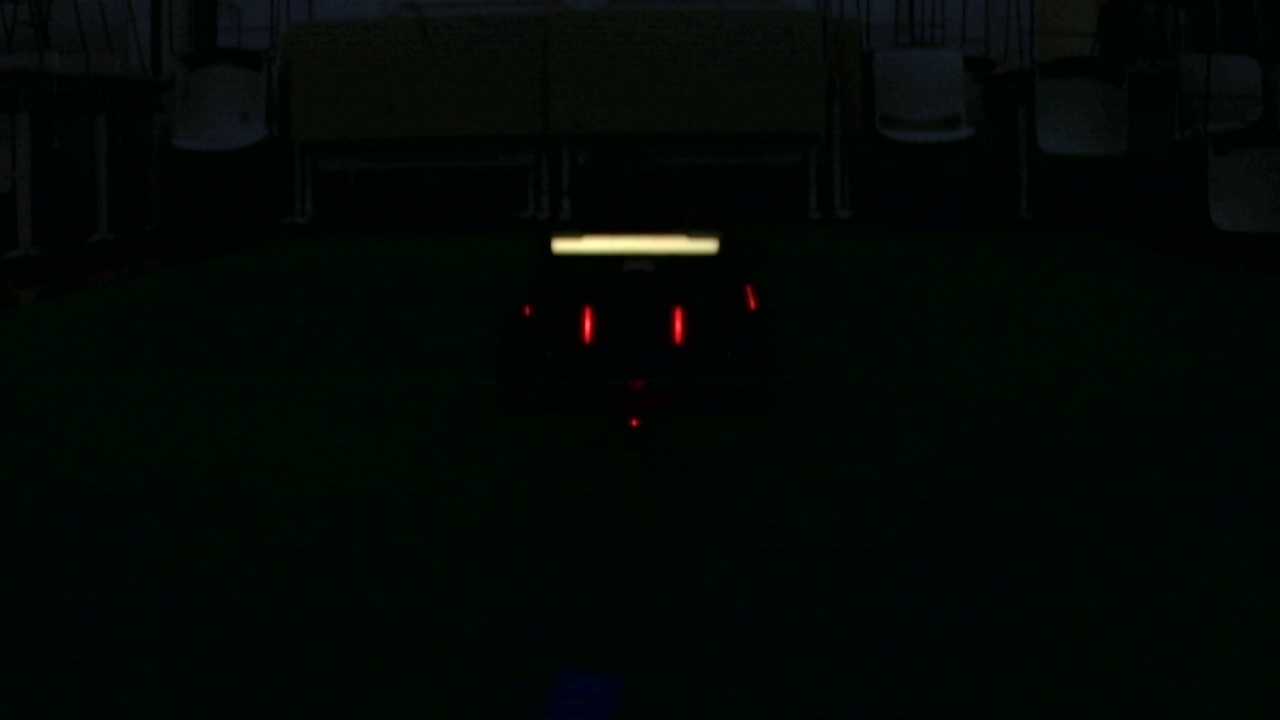lamp: (578, 306, 597, 348), (673, 305, 686, 350)
pair1: (583, 303, 687, 347)
